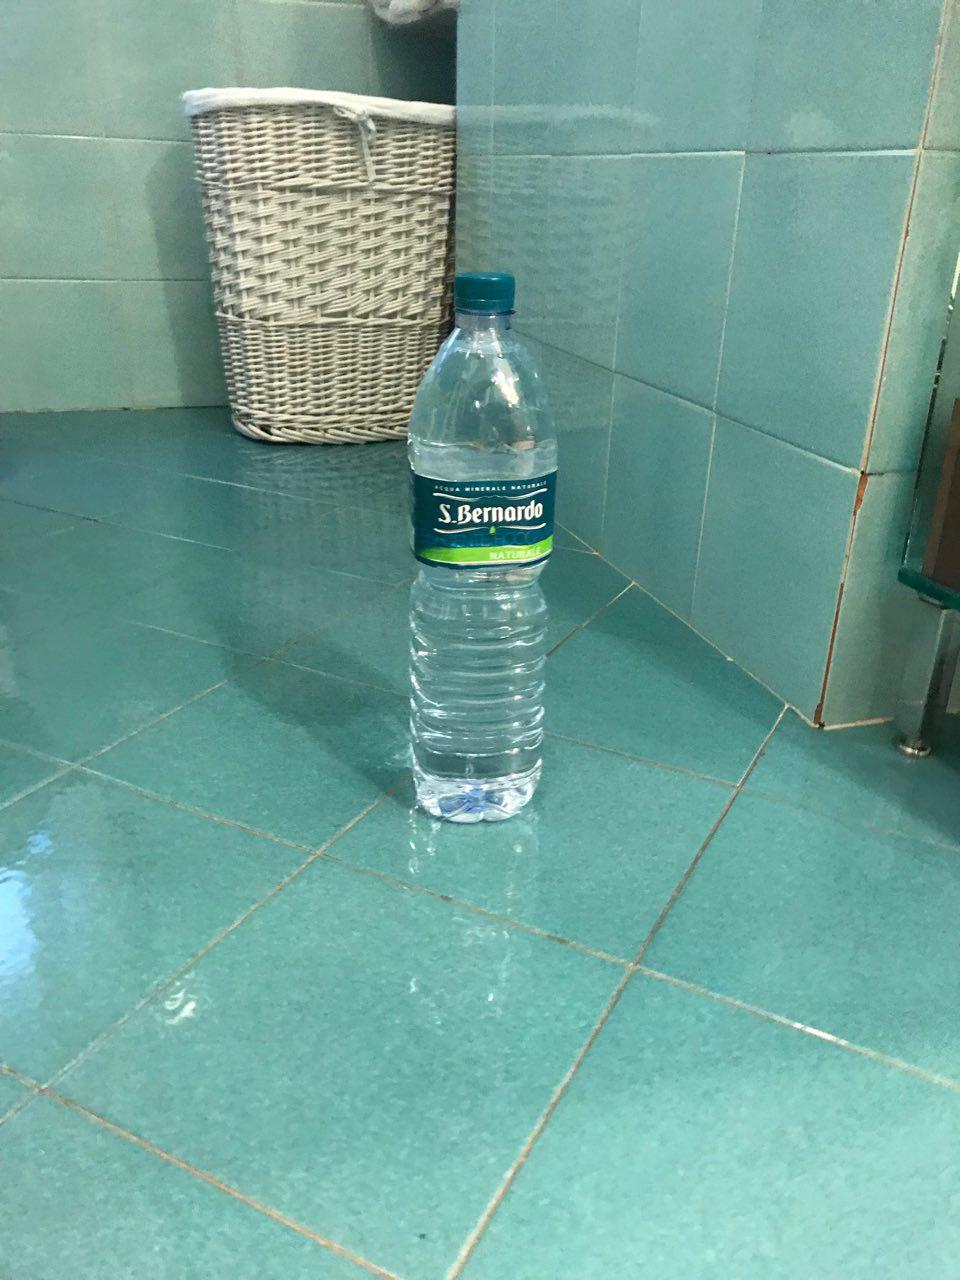san_bernardo: (406, 270, 559, 824)
